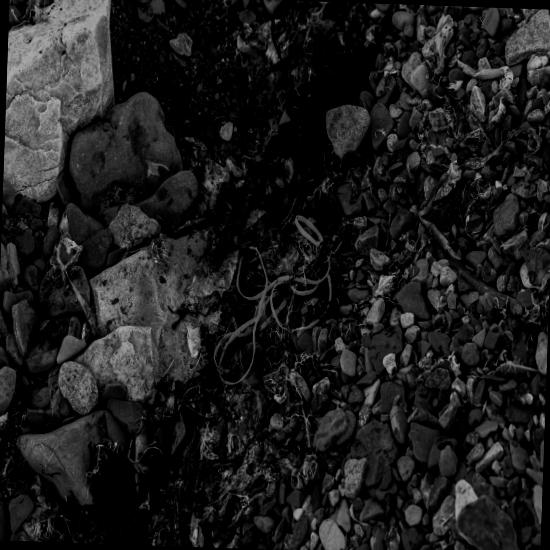Cigarette: (434, 277, 445, 283), (544, 183, 550, 189)
Paper cup: (365, 349, 404, 405)
